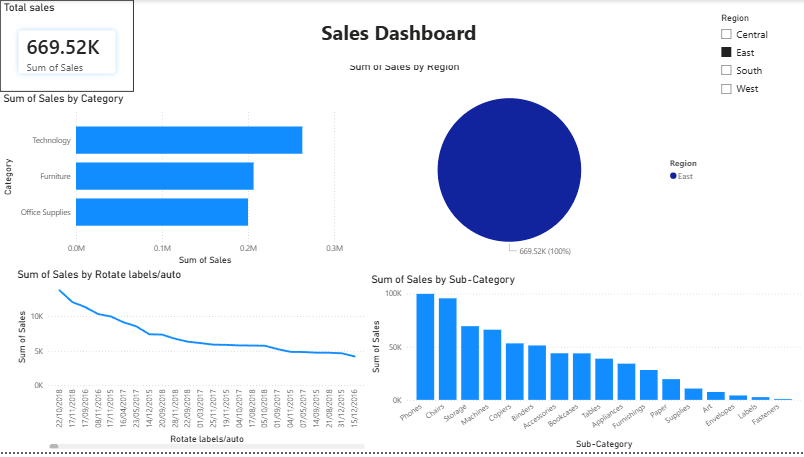

The page's visual inventory and layout, read from the dashboard file:
{"tool":"powerbi","page":{"name":"Page 1","canvas":[1280,720],"ordinal":0},"visuals":[{"type":"cardVisual","title":"Total sales","fields":{"Data":["Sum(train.Sales)"]},"box":[0,0,213.3,146.5],"z":0},{"type":"clusteredBarChart","fields":{"Category":["train.Category"],"Y":["Sum(train.Sales)"]},"box":[0,146.5,550.8,280.2],"z":1000},{"type":"pieChart","fields":{"Category":["train.Region"],"Y":["Sum(train.Sales)"]},"box":[550.8,95.5,584.3,331.1],"z":2000},{"type":"lineChart","fields":{"Category":["train.Order Date"],"Y":["Sum(train.Sales)"]},"box":[22.3,426.7,563.6,292.9],"z":3000},{"type":"clusteredColumnChart","fields":{"Category":["train.Sub-Category"],"Y":["Sum(train.Sales)"]},"box":[585.9,434.6,694.1,285],"z":3001},{"type":"slicer","fields":{"Values":["train.Region"]},"box":[1135.1,15.9,144.9,175.1],"z":3002},{"type":"textbox","box":[506.3,23.9,409.2,79.6],"z":3003}]}

Visuals, with their boxes in screenshot pixels (x1, y1, x2, y2), scaled from the page's 1280x720 canvas onto the 804x457 screenshot:
"Total sales" cardVisual: [0, 0, 134, 93]
clusteredBarChart - train.Category x Sum(train.Sales): [0, 93, 346, 271]
pieChart - train.Region x Sum(train.Sales): [346, 61, 713, 271]
lineChart - train.Order Date x Sum(train.Sales): [14, 271, 368, 456]
clusteredColumnChart - train.Sub-Category x Sum(train.Sales): [368, 276, 803, 456]
slicer - train.Region: [713, 10, 803, 121]
textbox: [318, 15, 575, 66]
